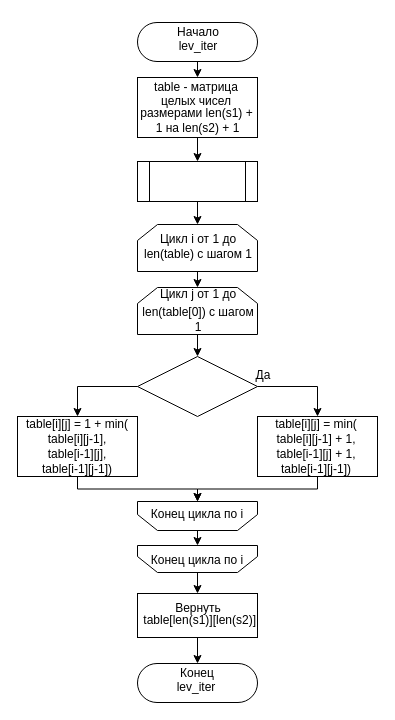
The diagram is 395 pixels wide and 720 high, and some of its shapes have lost their labels. The shapes that lost their labels are listed below. From the top down, each one's centre as x and y in pixels, then its label:
pixel 197 181: table_fill(table)
pixel 197 386: s1[i] == s2[j]
